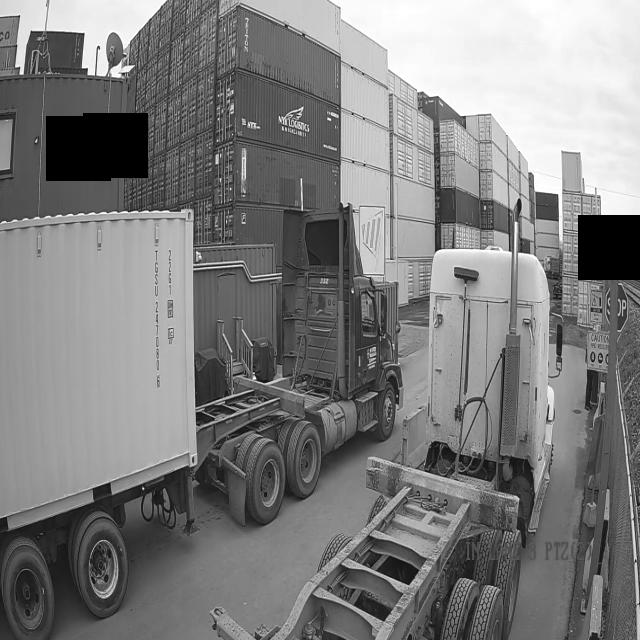container_side_no: (150, 247, 169, 404)
truck_trailer: (211, 246, 562, 640)
truck_with_container: (0, 204, 402, 640)
